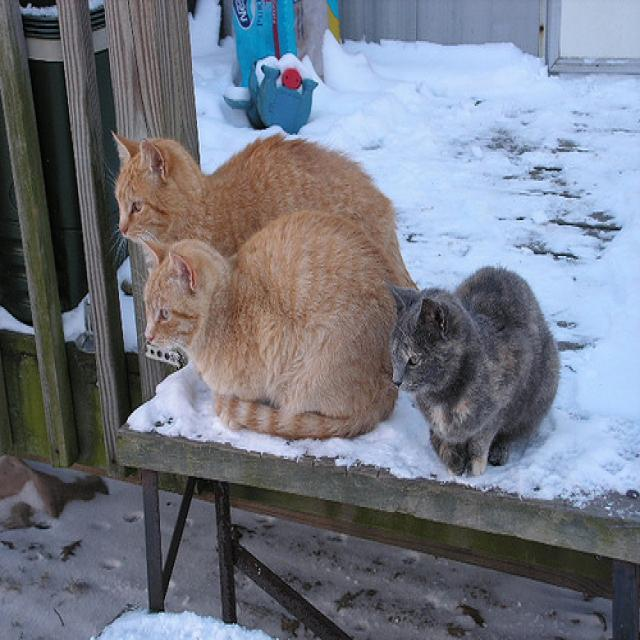cat: (142, 208, 400, 442), (111, 129, 418, 296), (389, 264, 560, 482)
